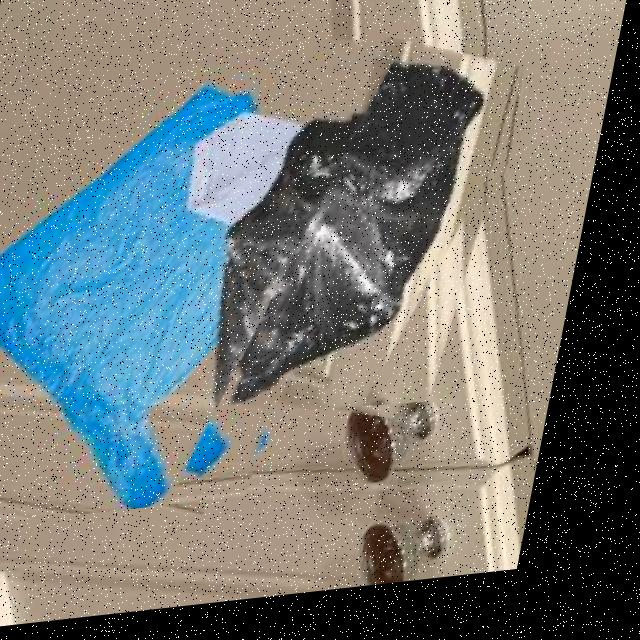plasticcover: (0, 13, 385, 535), (193, 33, 543, 436)
